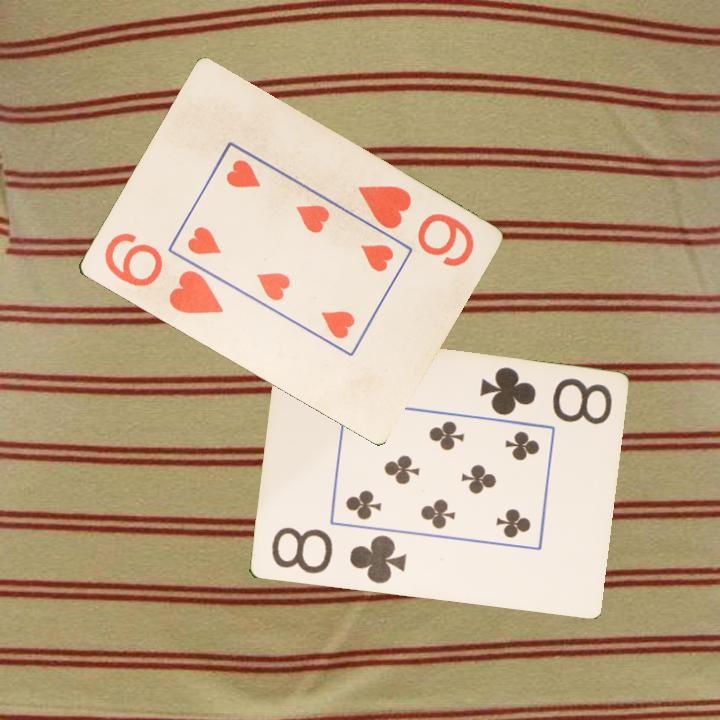6h: (99, 229, 227, 318), (353, 181, 477, 271)
8c: (267, 523, 409, 587), (476, 364, 615, 428)
